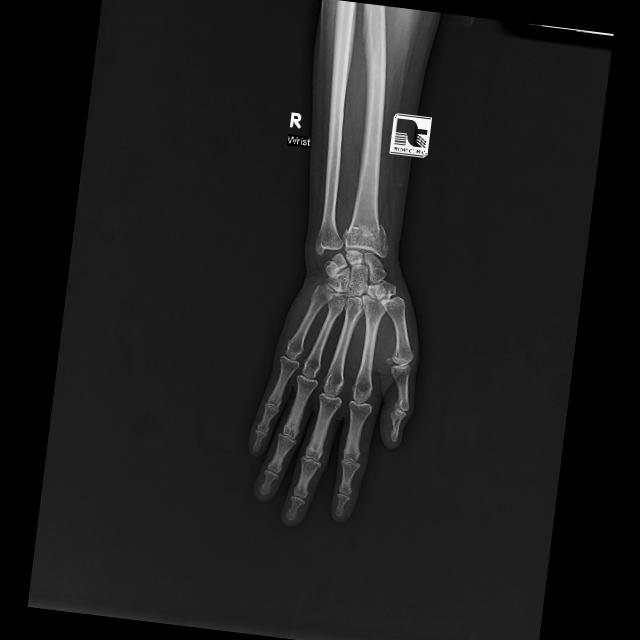fractured: (338, 220, 391, 259)
